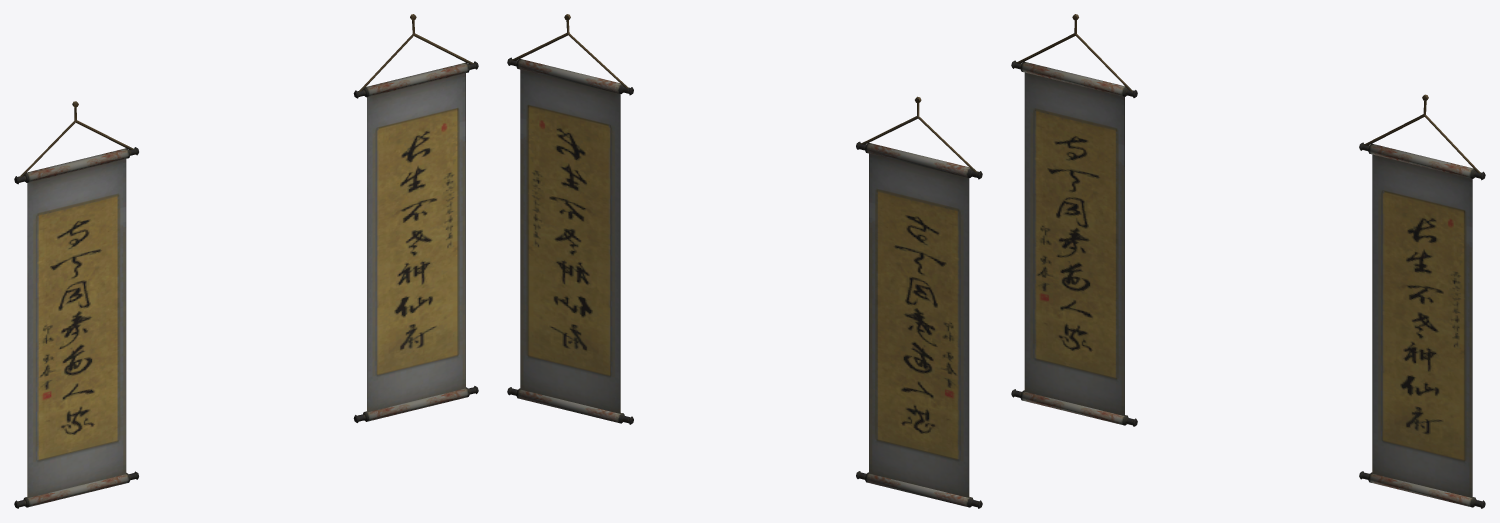
File: Couplets.fbx
The picture shows the model from 3 angles, left to right: view 1: azimuth 30°, elevation 25°; view 2: azimuth 150°, elevation 25°; view 3: azimuth 330°, elevation 25°; orthographic projection.
Parts seen in each view (by area): view 1: tiao_fu_02, tiao_fu_01; view 2: tiao_fu_01, tiao_fu_02; view 3: tiao_fu_01, tiao_fu_02.
Boxes of the visible parts, <box> form: tiao_fu_02: <box>14,101,138,508</box>; tiao_fu_01: <box>353,14,478,422</box>; tiao_fu_01: <box>507,14,633,424</box>; tiao_fu_02: <box>856,96,982,508</box>; tiao_fu_01: <box>1359,94,1485,508</box>; tiao_fu_02: <box>1011,14,1137,426</box>.
Bounding box in the file's own units: 373 × 302 × 11.7.
Materials: 1 (1 with a texture image).
